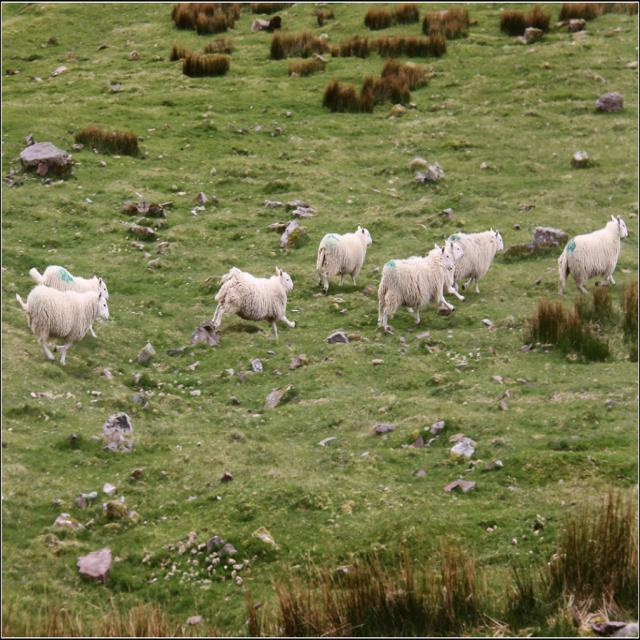Sheep: (16, 215, 631, 368)
